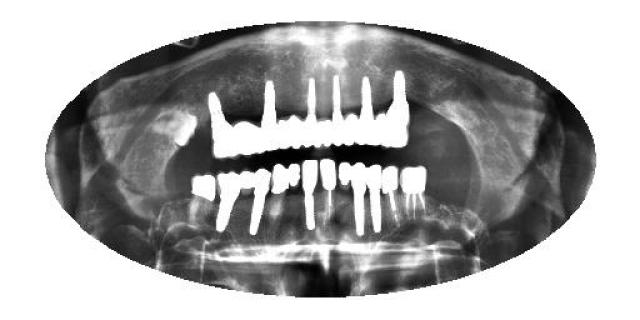Fillings: (268, 164, 292, 231), (189, 172, 216, 230), (277, 112, 305, 152), (235, 112, 259, 156), (285, 159, 303, 196), (338, 160, 350, 195)
Implant: (350, 75, 385, 145), (382, 71, 412, 149), (206, 90, 239, 160), (324, 75, 355, 145), (245, 165, 275, 236), (400, 165, 431, 224), (215, 172, 244, 232), (259, 81, 280, 154), (304, 80, 325, 150), (350, 162, 369, 238), (382, 163, 402, 235), (366, 166, 384, 234), (302, 158, 318, 232), (320, 159, 339, 220)
